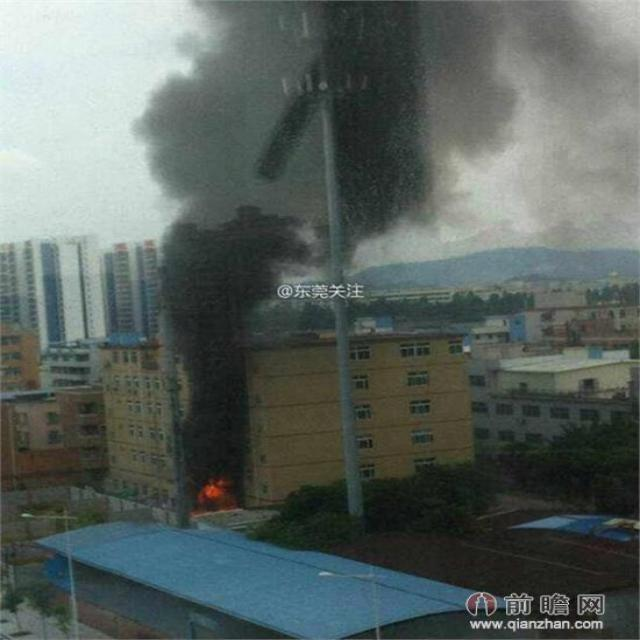Fire: (189, 482, 249, 510)
Smoke: (128, 1, 600, 480)
